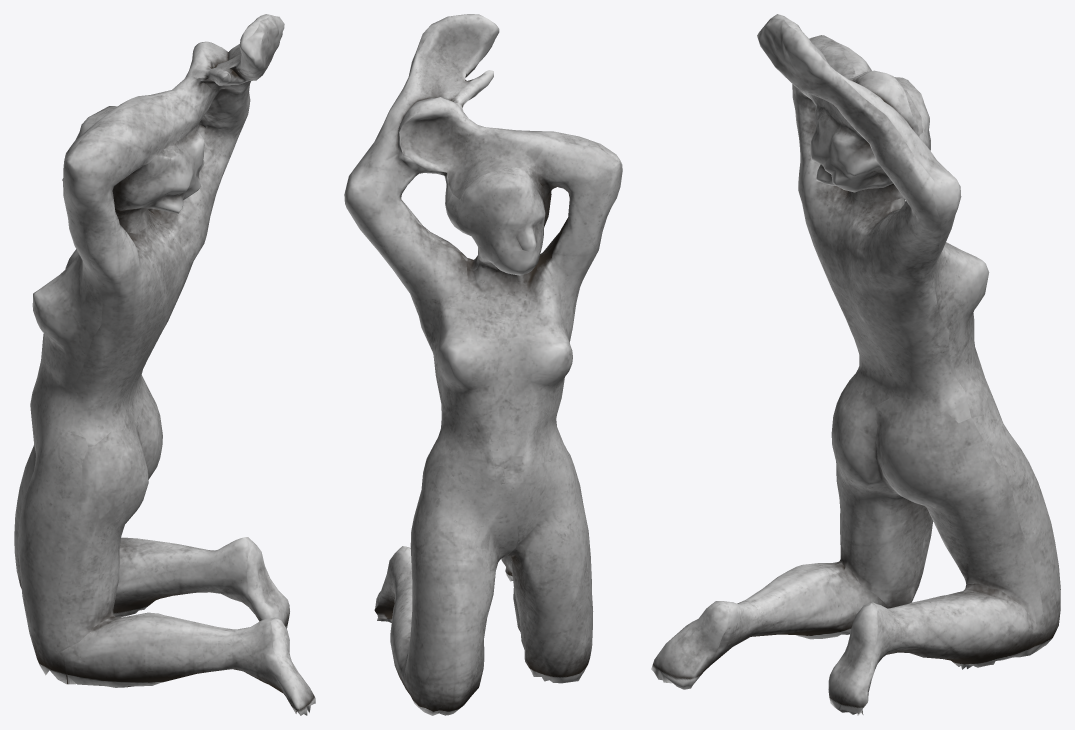
Rendered from Statue Top.fbx.
3 views of the same model, side by side, from view 1: azimuth 30°, elevation 25°; view 2: azimuth 150°, elevation 25°; view 3: azimuth 270°, elevation 25° (orthographic). The views are drawn at different scales.
Parts seen in each view (by area): view 1: Statue; view 2: Statue; view 3: Statue.
Part boxes in pixels (x1=…): Statue: x1=14, y1=14, x2=315, y2=715; Statue: x1=344, y1=14, x2=622, y2=715; Statue: x1=651, y1=14, x2=1060, y2=715.
Bounding box in the file's own units: 16.06 × 40.73 × 22.58.
1 material, 1 textured.
